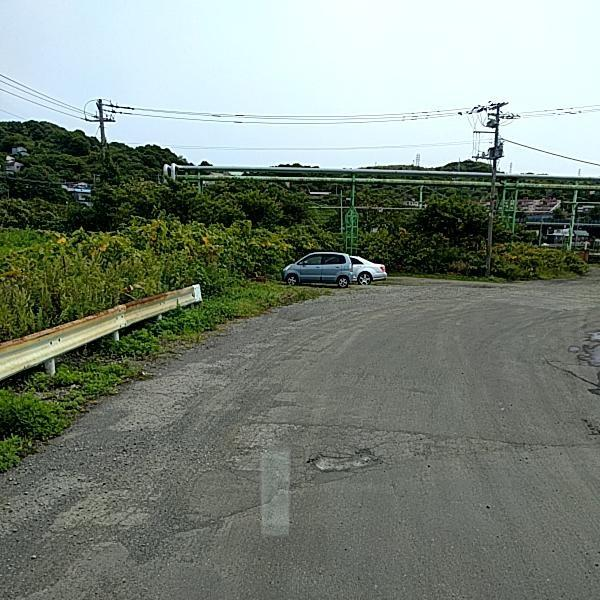pothole: (308, 447, 378, 473)
